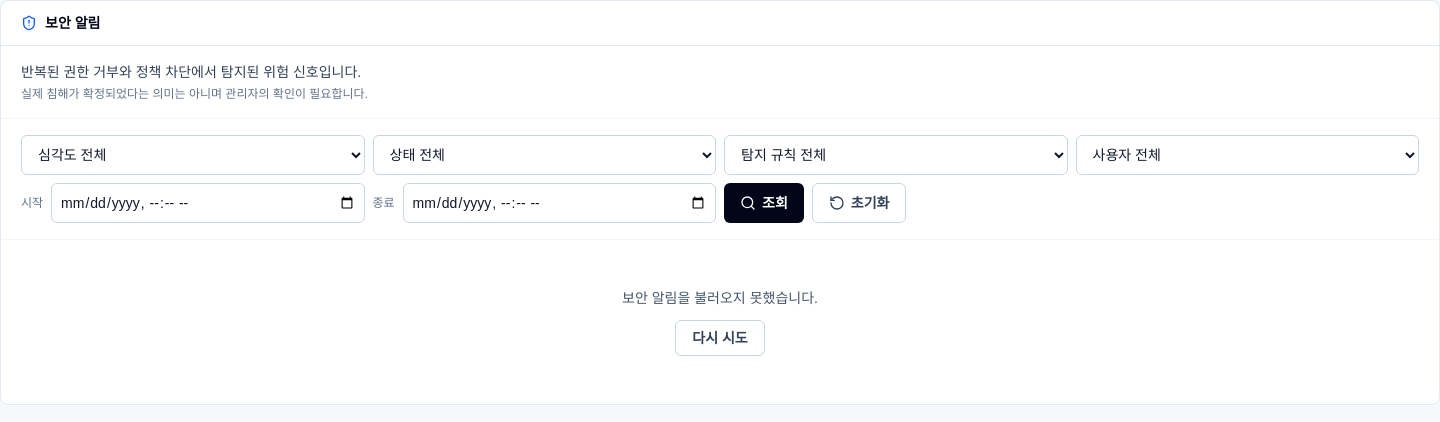
Scenario: SecurityAlertsTab › 재시도 가능한 오류에서 다시 시도할 수 있다
Expected: the text "보안 알림을 불러오지 못했습니다." is shown, [622,288,818,308]
Click the button "다시 시도": {"x": 720, "y": 338} [675,320,765,356]
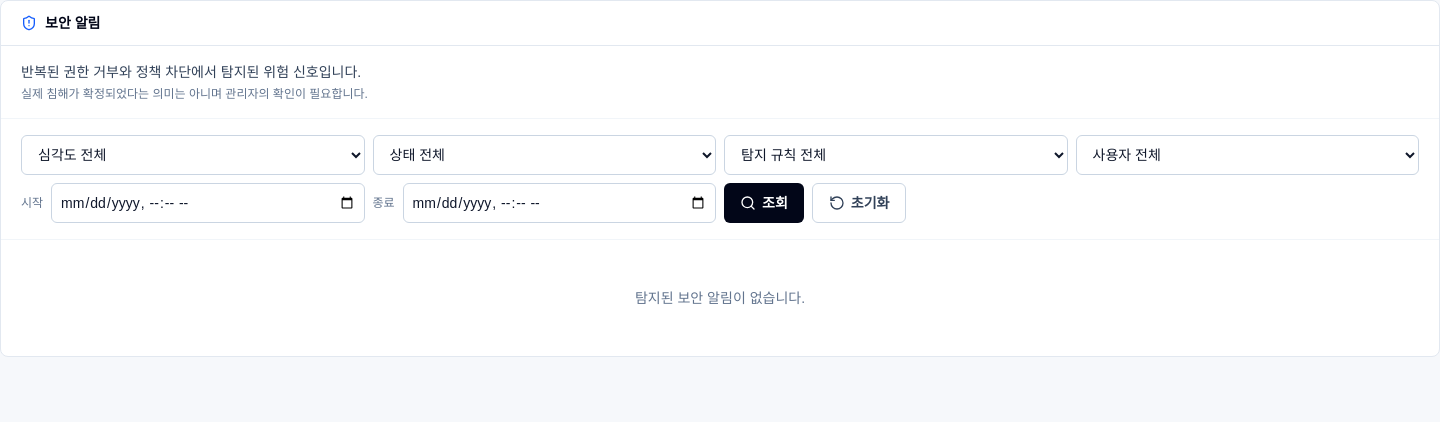
Expected: the text "탐지된 보안 알림이 없습니다." is shown, [635,290,805,306]
